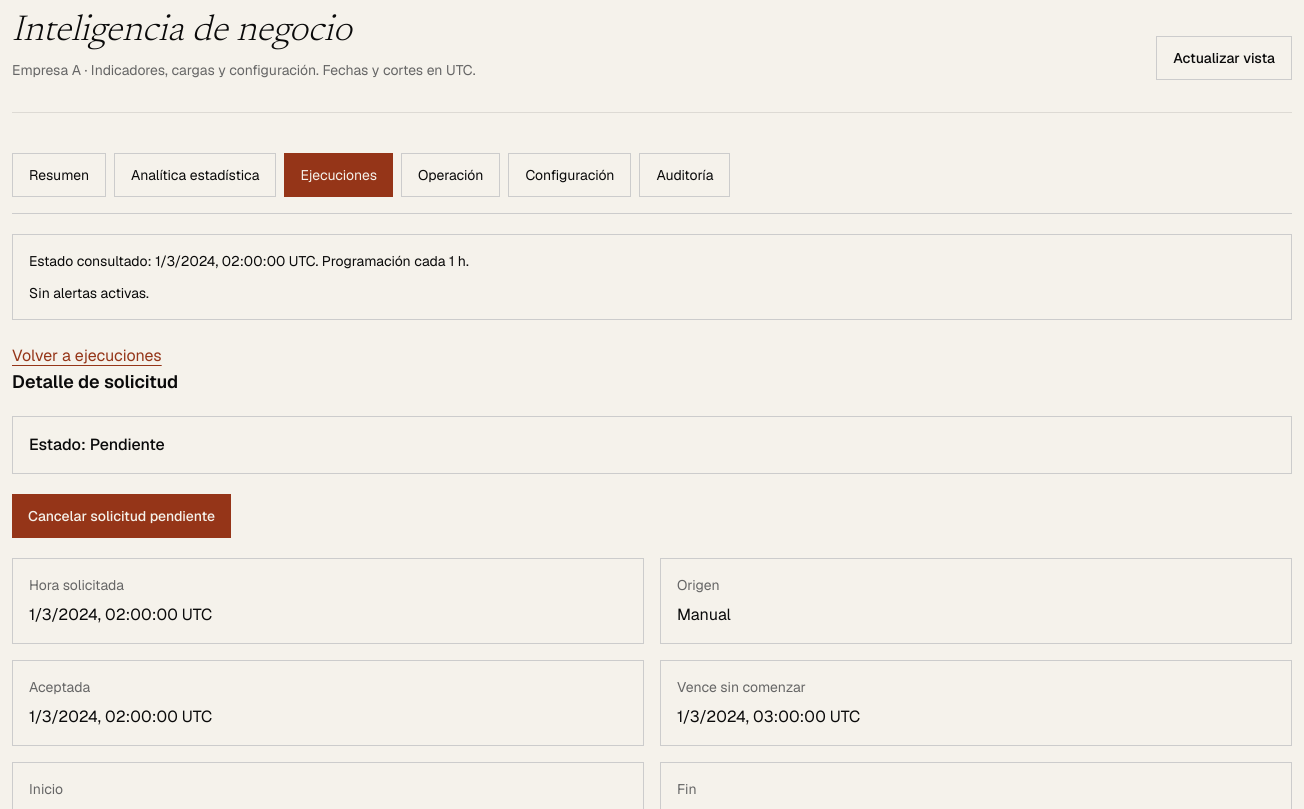
Test: BI interfaces with validated contracts › cancels a pending request through the durable command and refreshes its result
Expected: the text "Estado: Pendiente" is shown, 12,416 -> 1292,474
Click the button "Cancelar solicitud pendiente" at (122, 516), box 12,494 -> 231,538
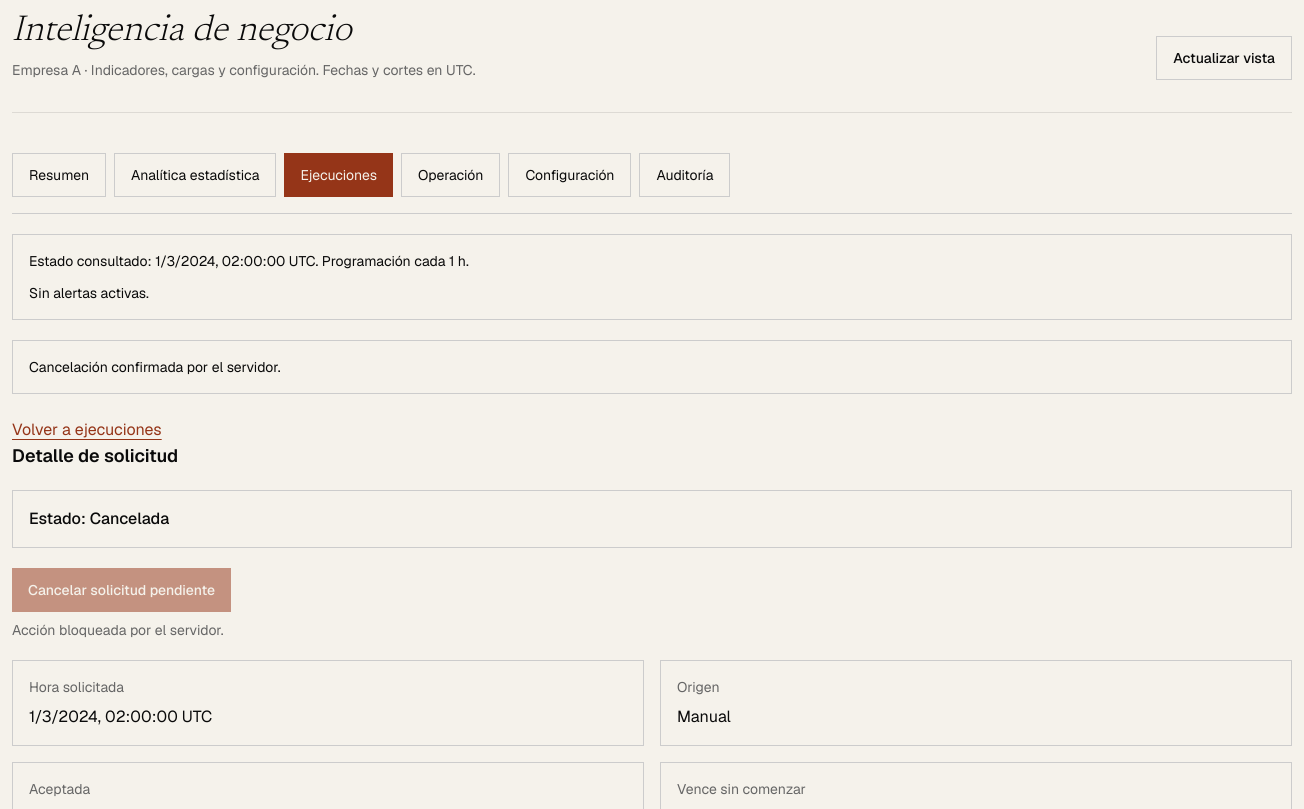
Expected: the text "Estado: Cancelada" is shown, 12,490 -> 1292,548
Expected: the button "Cancelar solicitud pendiente" is disabled, 12,568 -> 231,612
